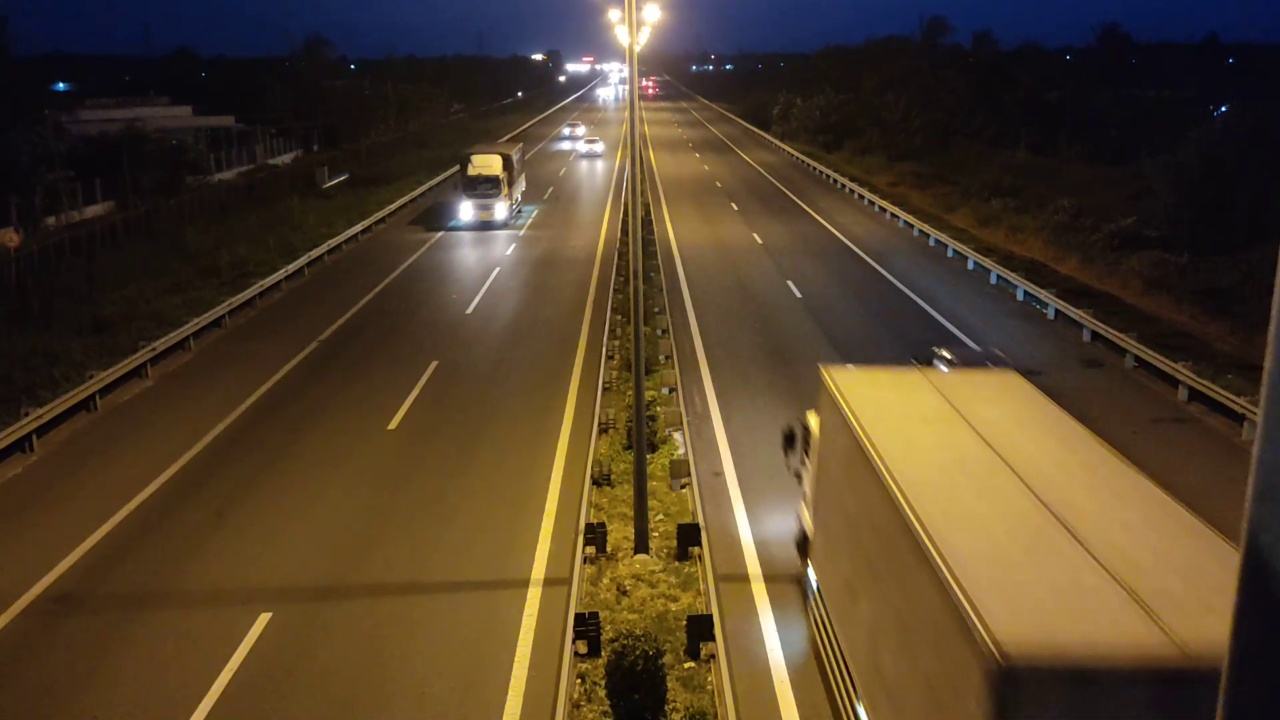car: (573, 138, 606, 158)
truck: (457, 137, 528, 228)
